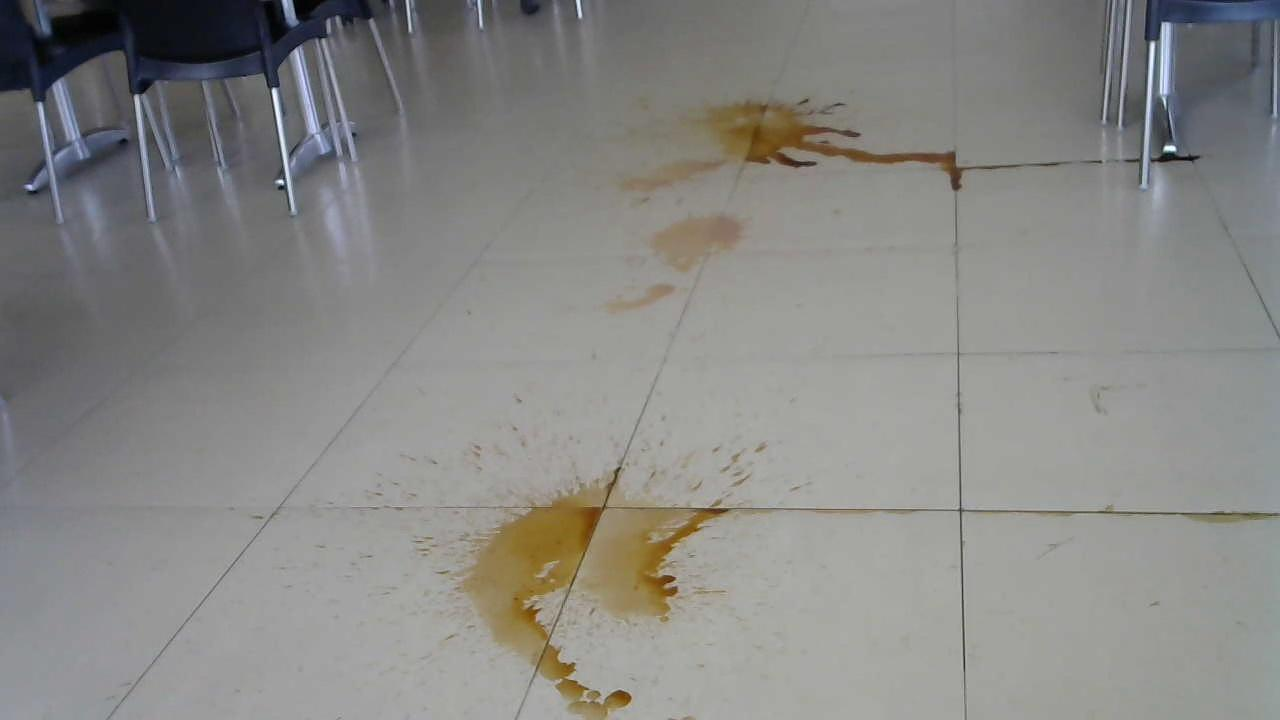dirty_floor: (443, 438, 772, 720), (697, 97, 974, 195), (600, 207, 749, 318), (613, 152, 729, 197)
